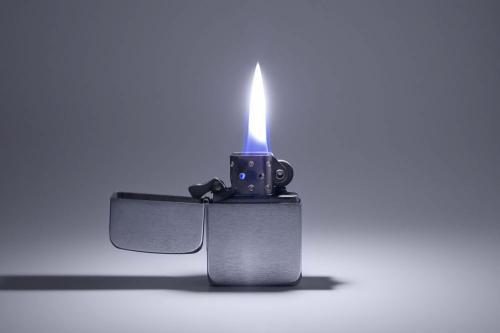fire: (236, 55, 278, 166)
